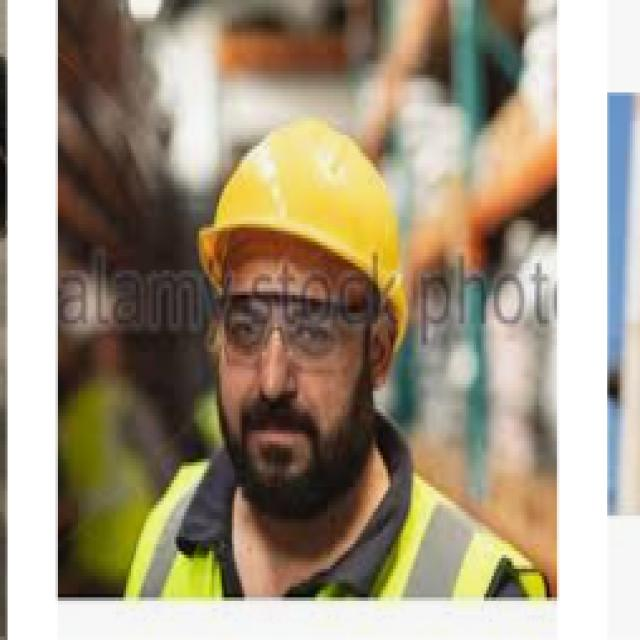glasses: (210, 278, 383, 374)
